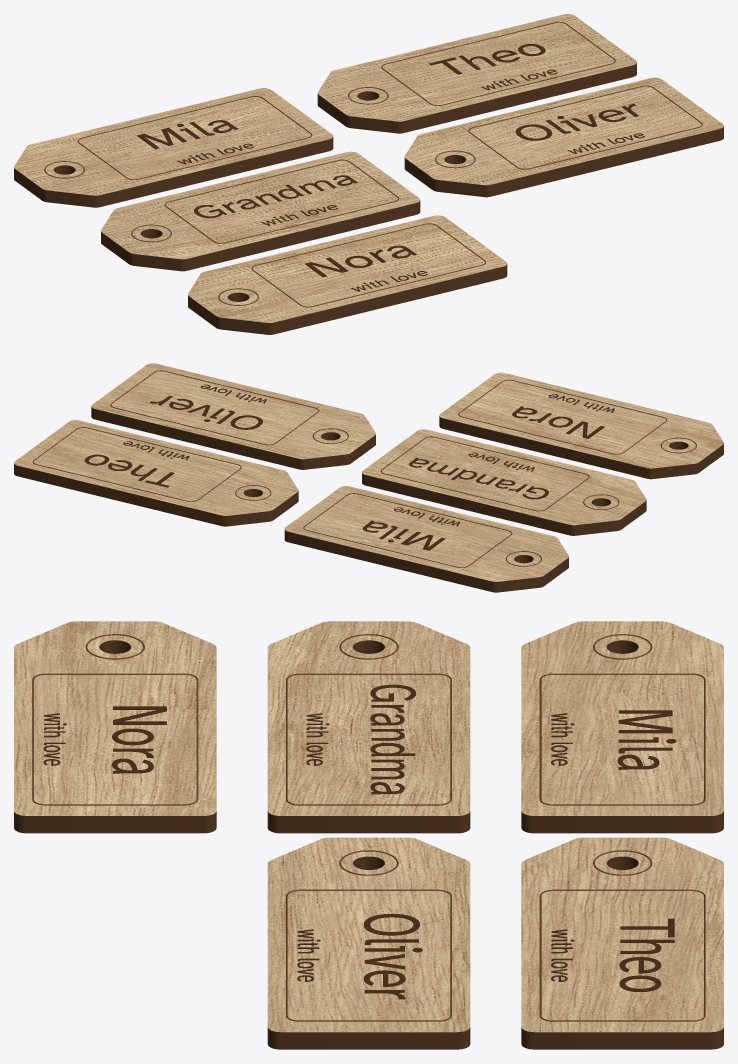
Rendered from gift-tags.glb.
3 views of the same model, one above another, from view 1: azimuth 30°, elevation 25°; view 2: azimuth 150°, elevation 25°; view 3: azimuth 270°, elevation 25° (orthographic). The views are drawn at different scales.
Visible parts, largest first — view 1: body1, body0, body4, body3, body2, engrave2, engrave3, engrave0, engrave4, engrave1, score4, score2 (+3 smaller); view 2: body1, body4, body0, body2, body3, engrave2, engrave3, engrave4, engrave0, engrave1, score2, score3 (+3 smaller); view 3: body0, body1, body2, body3, body4, engrave2, engrave3, engrave0, engrave4, engrave1, score1, score0 (+3 smaller).
Boxes of the visible parts, x1,y1,x2,y2 form: body1: (317,14,636,133); body0: (14,88,333,207); body4: (188,215,507,334); body3: (404,77,723,197); body2: (101,151,420,271); engrave2: (194,175,357,225); engrave3: (515,103,644,153); engrave0: (136,120,254,164); engrave4: (304,245,427,291); engrave1: (429,44,557,90); score4: (218,223,485,307); score2: (131,159,399,243); body1: (14,420,298,526); body4: (439,372,723,479); body0: (284,486,568,592); body2: (362,429,646,535); body3: (91,363,375,469); engrave2: (409,452,548,499); engrave3: (149,384,266,429); engrave4: (512,394,614,438); engrave0: (362,507,459,550); engrave1: (84,441,189,487); score2: (380,436,619,511); score3: (110,370,348,445); body0: (521,621,723,833); body1: (521,837,723,1049); body2: (267,621,470,833); body3: (267,837,470,1049); body4: (14,621,216,833); engrave2: (306,684,415,794); engrave3: (297,913,422,999); engrave0: (551,710,676,769); engrave4: (43,706,166,773); engrave1: (551,918,674,991); score1: (539,850,705,1021); score0: (539,634,705,805).
Size of the model in its own units: 0.152 by 0.00312 by 0.111.
Materials: 4 (1 with a texture image).
